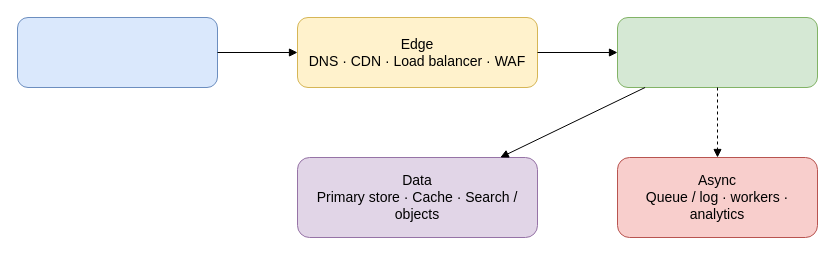
Image size: 835x255. Some labels were removed from this diagram. The shapes that lost their labels are listed below. From the top down, each one's centre as x and y in pixels, then its label:
At (x=117, y=52): "Clients Web / Mobile / API partners".
At (x=717, y=52): "Application Stateless services".
